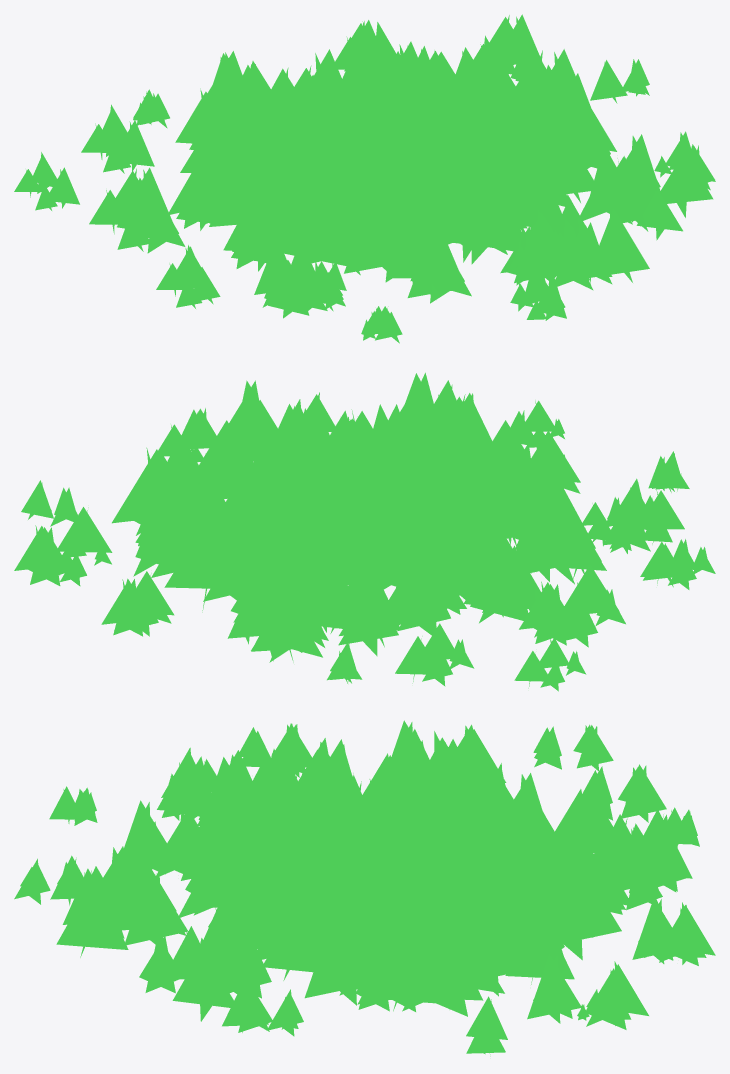
File: canyon_plant_grass_002_fbx.fbx
3 renders of one model, top to bottom at view 1: azimuth 30°, elevation 25°; view 2: azimuth 150°, elevation 25°; view 3: azimuth 270°, elevation 25°, orthographic. The views are drawn at different scales.
Visible parts, largest first — view 1: grass_02_lod0; view 2: grass_02_lod0; view 3: grass_02_lod0.
Part boxes in pixels (x1,y1,x2,y2): grass_02_lod0: [14, 14, 715, 343]; grass_02_lod0: [14, 372, 715, 691]; grass_02_lod0: [14, 720, 715, 1056].
Size of what is drawn, in the model's own units: 295 by 54.7 by 279.
